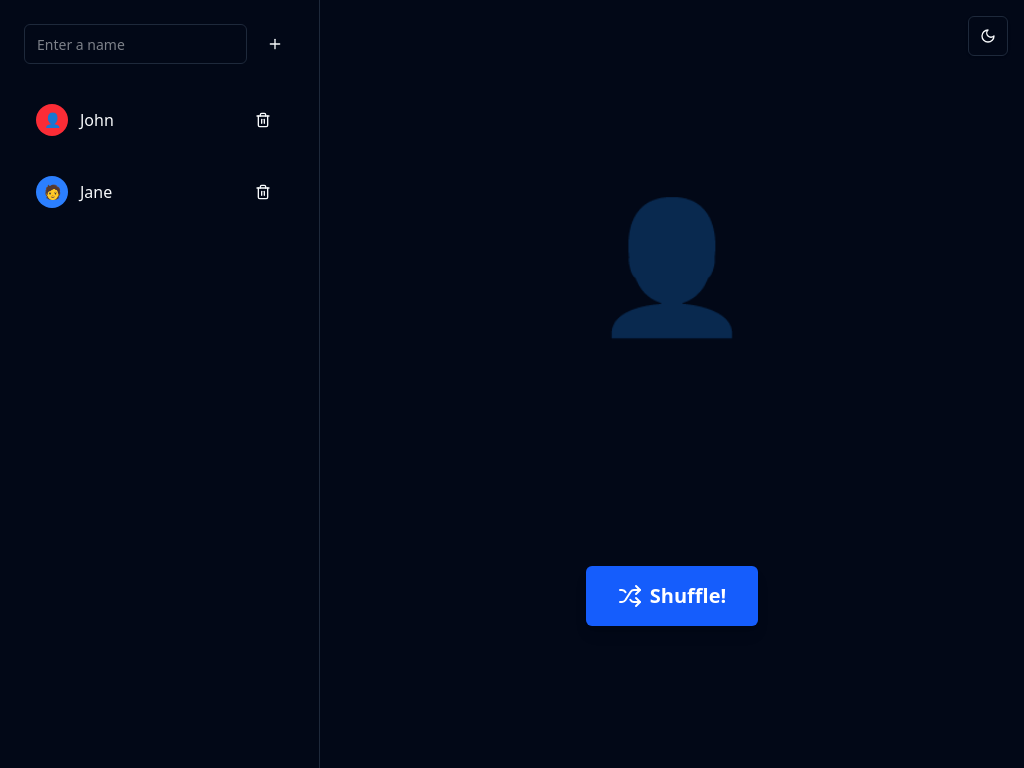
App Component › removes a name when clicking the trash button
The image size is (1024, 768).
Expected: the text "John" is shown, [80,109,114,131]
Step 1. Click the button named "trash" next to "John" → (263,120), box [243,100,283,140]
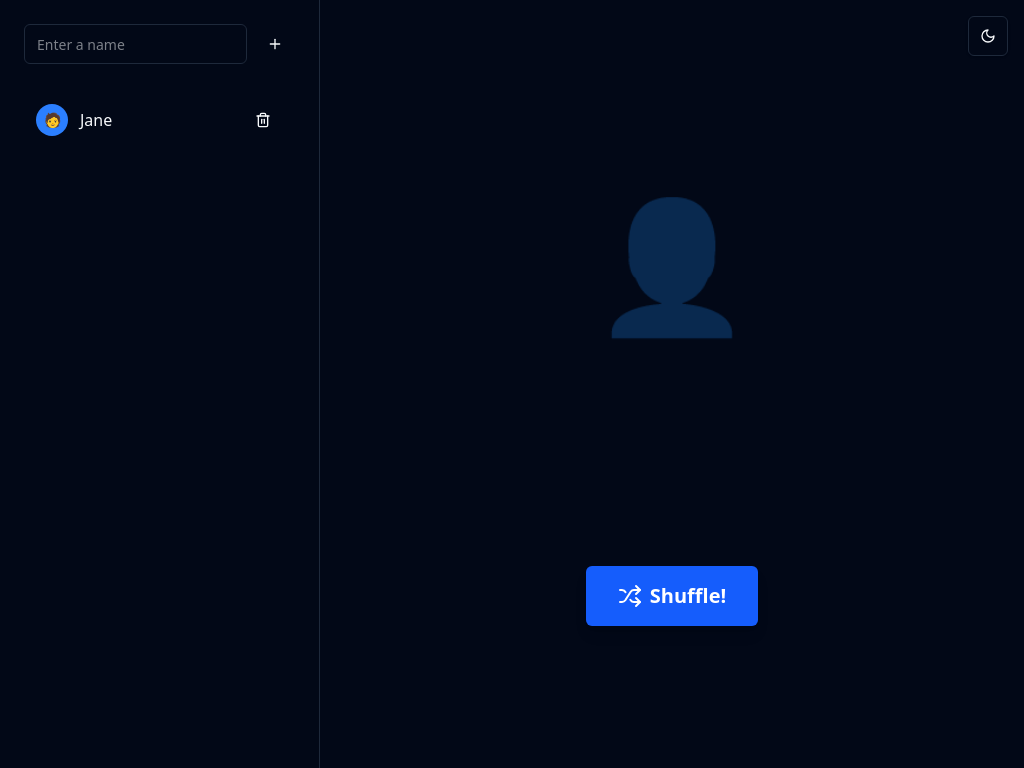
Expected: the text "Jane" is shown, [80,109,112,131]
Result: the text "John" is gone
